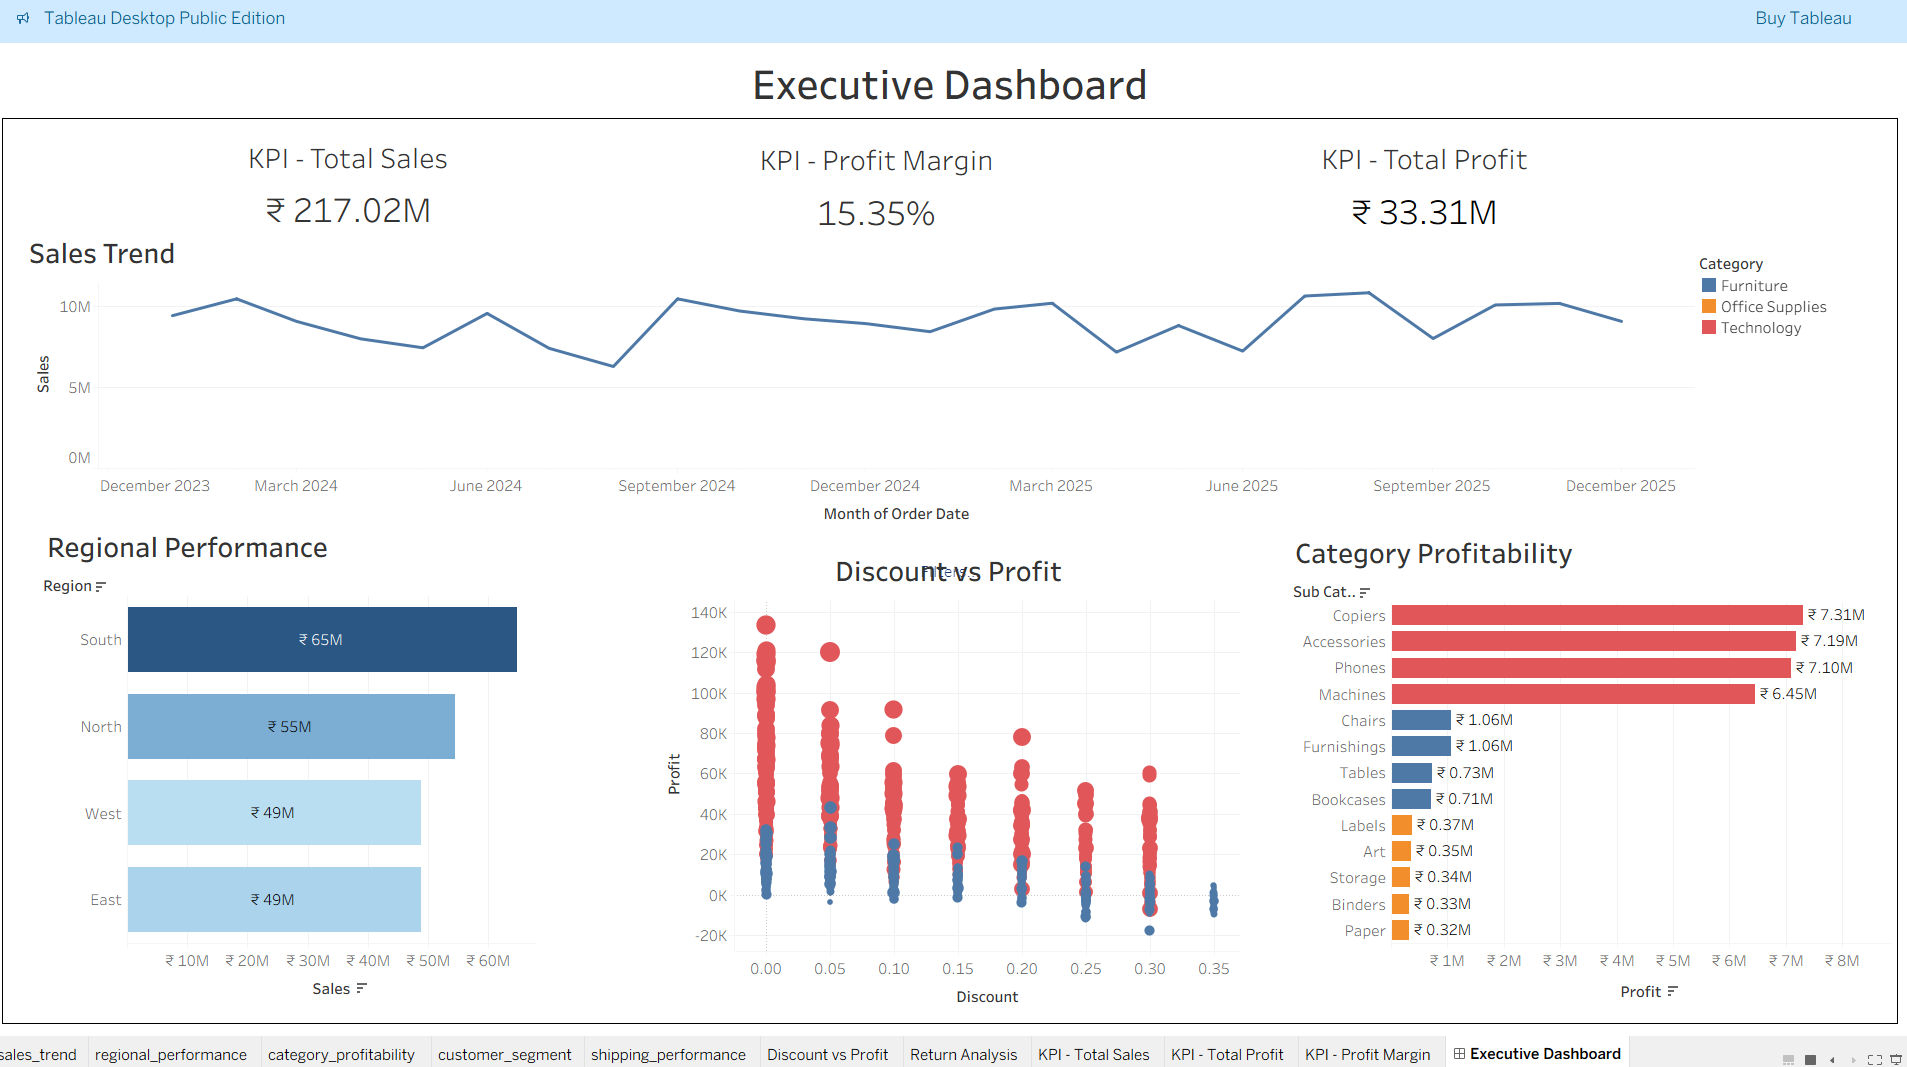

Layout of this report page (visuals, bound fields, positions):
{"tool":"tableau","page":{"name":"Executive Dashboard","canvas":[1400,900],"ordinal":0},"visuals":[{"type":"title","box":[0,0,19.6,0.4]},{"type":"filter","box":[0,0.4,2.8,7.6]},{"type":"worksheet","title":"KPI Summary","box":[2.8,0.4,16.8,0.9]},{"type":"worksheet","title":"Sales Trend","box":[2.8,1.3,8.4,2.5]},{"type":"worksheet","title":"Regional Performance","box":[11.2,1.3,8.4,2.5]},{"type":"worksheet","title":"Category Profitability","box":[2.8,3.9,5.6,2.2]},{"type":"worksheet","title":"Customer Segment","box":[8.4,3.9,5.6,2.2]},{"type":"worksheet","title":"Discount vs Profit","box":[14,3.9,5.6,2.2]},{"type":"worksheet","title":"Shipping Performance","box":[2.8,6.1,8.4,2]},{"type":"worksheet","title":"Return Analysis","box":[11.2,6.1,8.4,2]}]}

Visuals, with their boxes on the page's 1400x900 design canvas (x1, y1, x2, y2). These are canvas units, not pixel positions in the 1907x1067 screenshot, which may show the page scaled, cropped or inside an application window:
title: box=[0, 0, 20, 0]
filter: box=[0, 0, 3, 8]
"KPI Summary" worksheet: box=[3, 0, 20, 1]
"Sales Trend" worksheet: box=[3, 1, 11, 4]
"Regional Performance" worksheet: box=[11, 1, 20, 4]
"Category Profitability" worksheet: box=[3, 4, 8, 6]
"Customer Segment" worksheet: box=[8, 4, 14, 6]
"Discount vs Profit" worksheet: box=[14, 4, 20, 6]
"Shipping Performance" worksheet: box=[3, 6, 11, 8]
"Return Analysis" worksheet: box=[11, 6, 20, 8]
